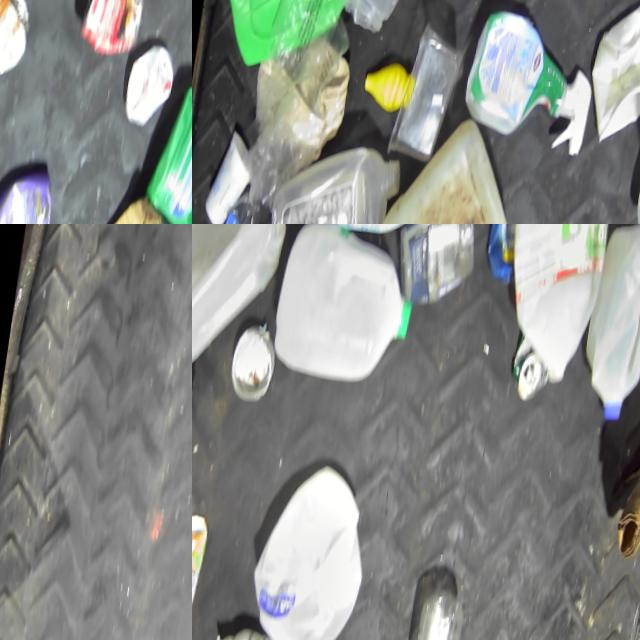can: (386, 224, 485, 326), (68, 0, 154, 66), (501, 335, 560, 417)
milk_jug: (268, 224, 427, 406), (240, 455, 379, 640), (494, 224, 621, 401), (192, 224, 294, 435), (575, 224, 640, 452)
non_white_jug: (220, 0, 364, 84), (141, 76, 192, 224), (313, 224, 456, 254), (0, 165, 58, 224)
plastic_bottle: (391, 573, 471, 640), (211, 186, 264, 224), (108, 224, 192, 235)
